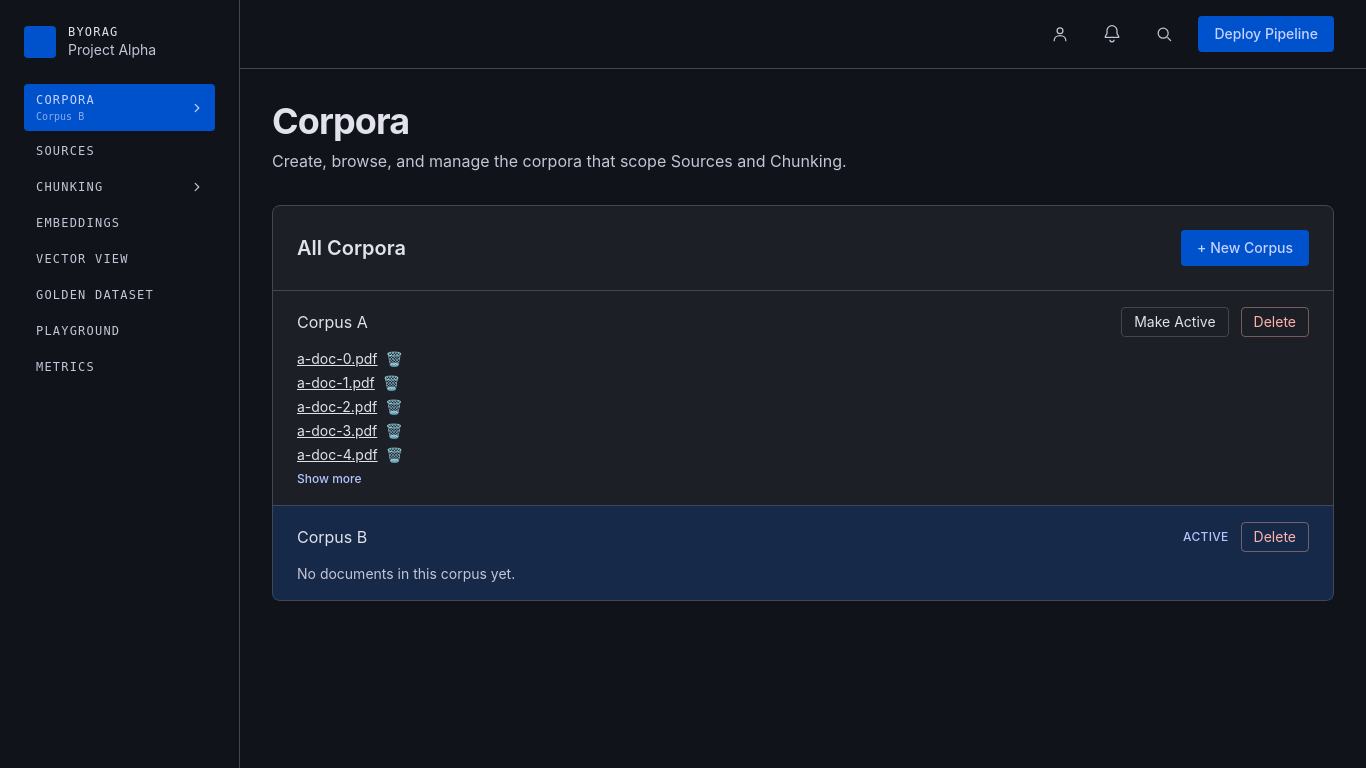
Test: CorporaScreen: per-row document preview (018-ui-polish-batch US7) › reveals the rest when "Show more" is clicked, and becomes "Show less"
Click the button "Show more": (329, 479) [297,471,362,487]
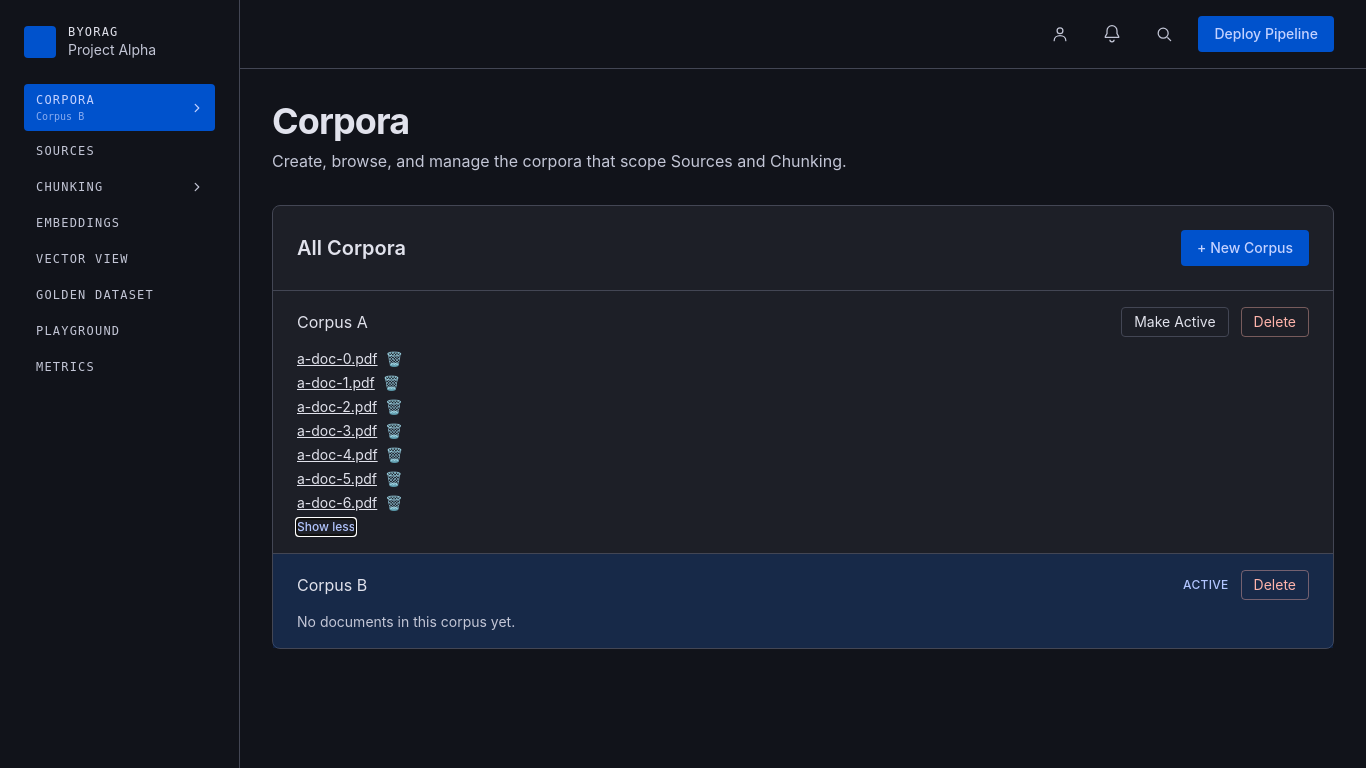
Result: the button "Show less" is shown at [297,519,355,535]
